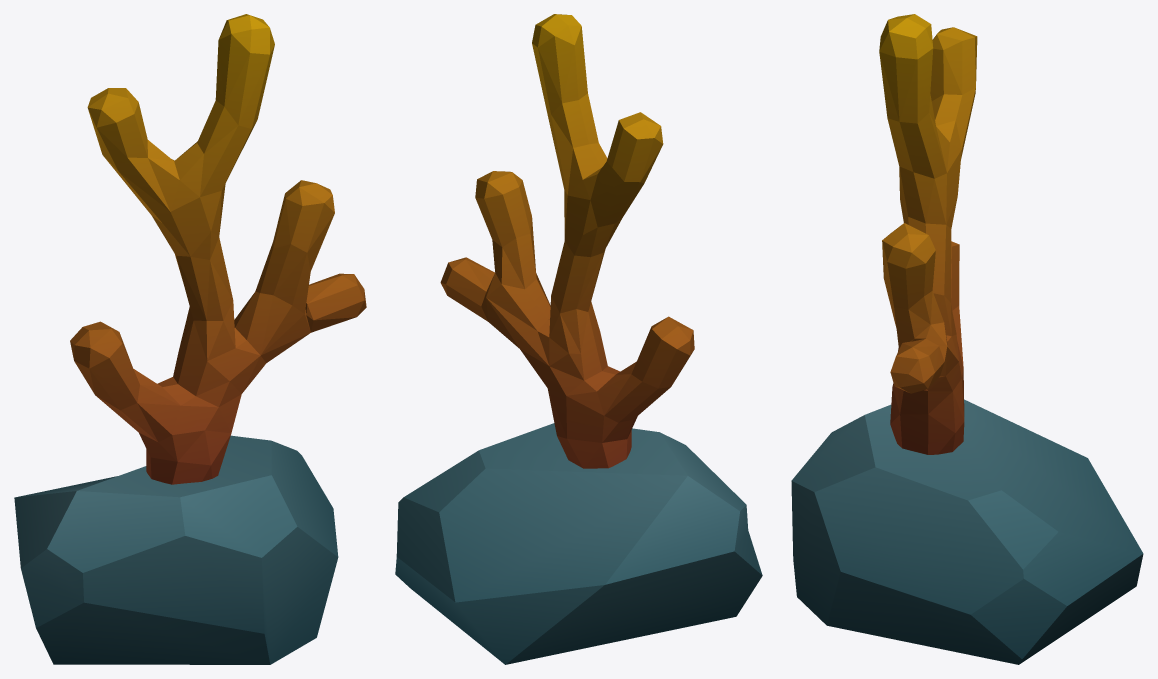
Rendered from orange_coral_2.fbx.
3 renders of one model, left to right at view 1: azimuth 30°, elevation 25°; view 2: azimuth 150°, elevation 25°; view 3: azimuth 270°, elevation 25°, orthographic. The views are drawn at different scales.
Parts seen in each view (by area): view 1: orange_coral_2; view 2: orange_coral_2; view 3: orange_coral_2.
Boxes of the visible parts, bbox=[...] form: orange_coral_2: bbox=[14, 14, 366, 664]; orange_coral_2: bbox=[395, 14, 762, 664]; orange_coral_2: bbox=[791, 14, 1143, 664].
Bounding box in the file's own units: 0.6351 × 1.09 × 0.583.
